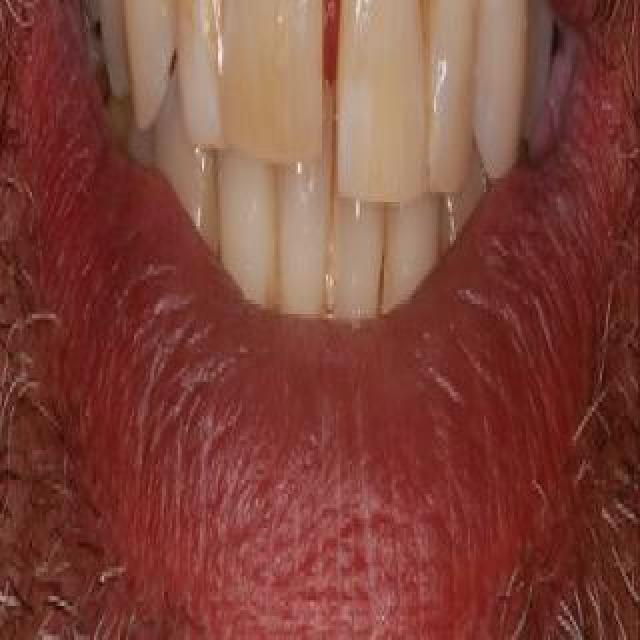calculus: (307, 205, 351, 325)
spacing: (294, 0, 384, 174)
